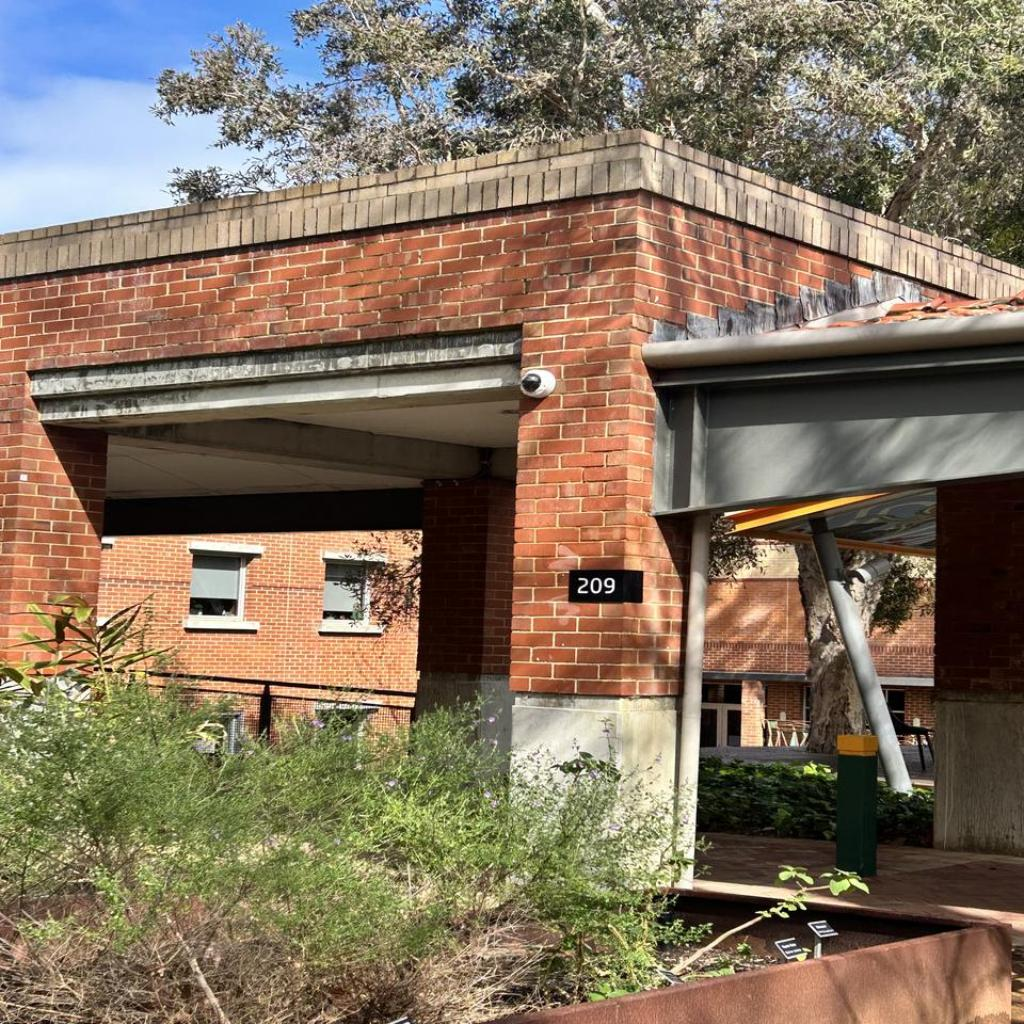BuildingCodes: (576, 576, 616, 596)
